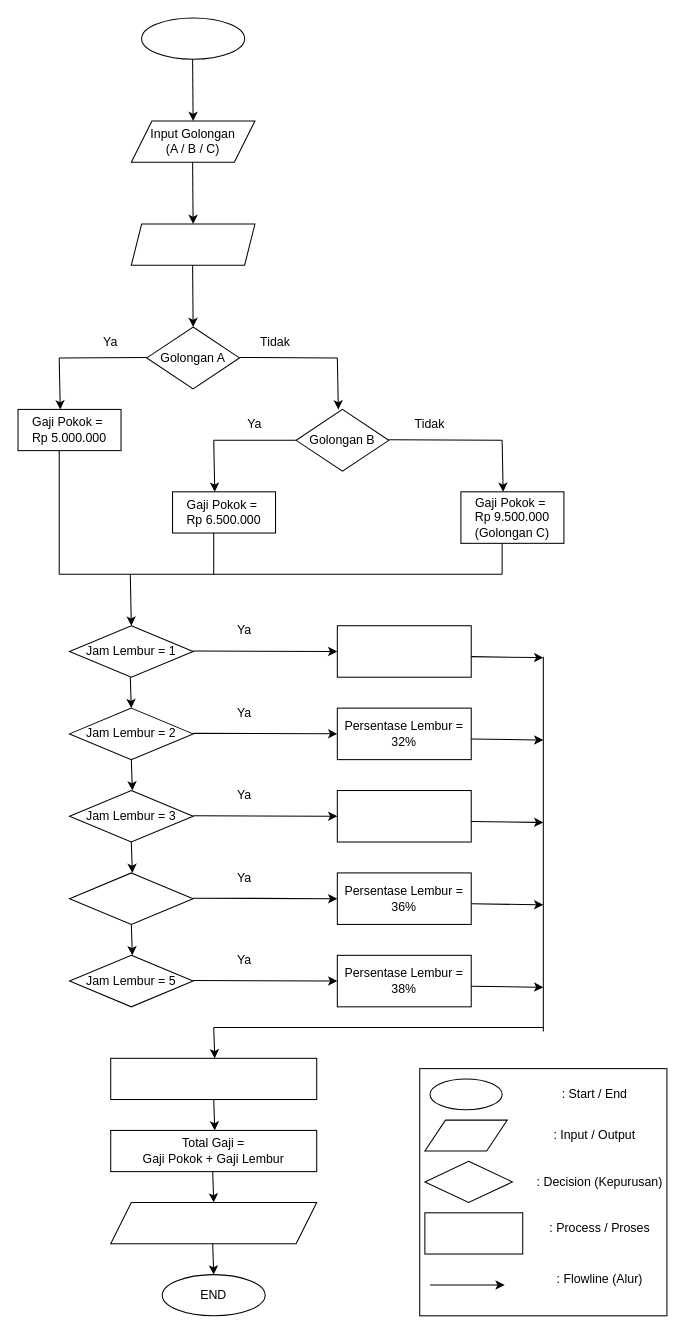
Image size: 695x1334. Some labels were removed from this diagram. The shapes that lost their labels are listed below. From the top down, each one's box as (x1, y1, x2, y2) in pixels, then its label:
(141, 17, 245, 59): Start
(130, 223, 255, 265): Input Jam Lembur (Jam)
(336, 625, 471, 677): Persentase Lembur = 30%
(336, 789, 471, 842): Persentase Lembur = 34%
(68, 872, 193, 924): Jam Lembur = 4
(110, 1057, 317, 1100): Gaji Lembur = Persentase Lembur x Gaji Pokok
(110, 1201, 317, 1244): Output / Tampilkan Total Gaji
